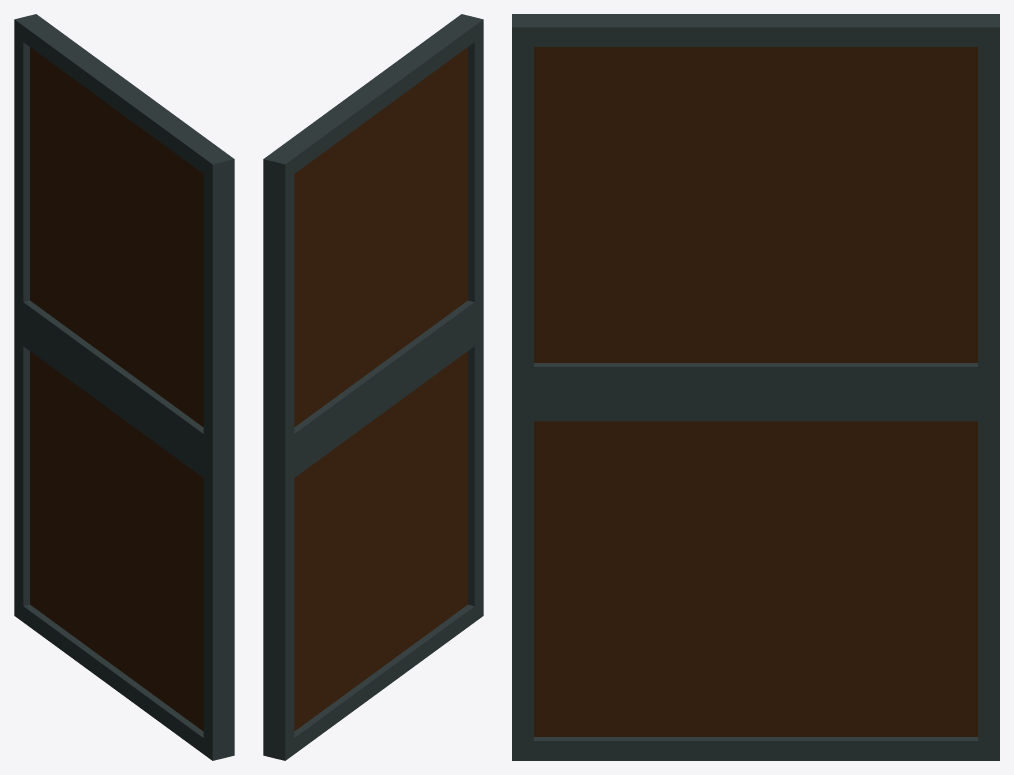
The model's file is PuertaIzq.glb.
3 views of the same model, side by side, from view 1: azimuth 30°, elevation 25°; view 2: azimuth 150°, elevation 25°; view 3: azimuth 270°, elevation 25° (orthographic). The views are drawn at different scales.
Parts seen in each view (by area): view 1: Puerta; view 2: Puerta; view 3: Puerta.
Part boxes in pixels (box(x1,y1,x2,y2)): Puerta: box(14, 14, 234, 760); Puerta: box(263, 14, 483, 760); Puerta: box(512, 14, 999, 760).
Bounding box in the file's own units: 0.1317 × 3.42 × 2.06.
